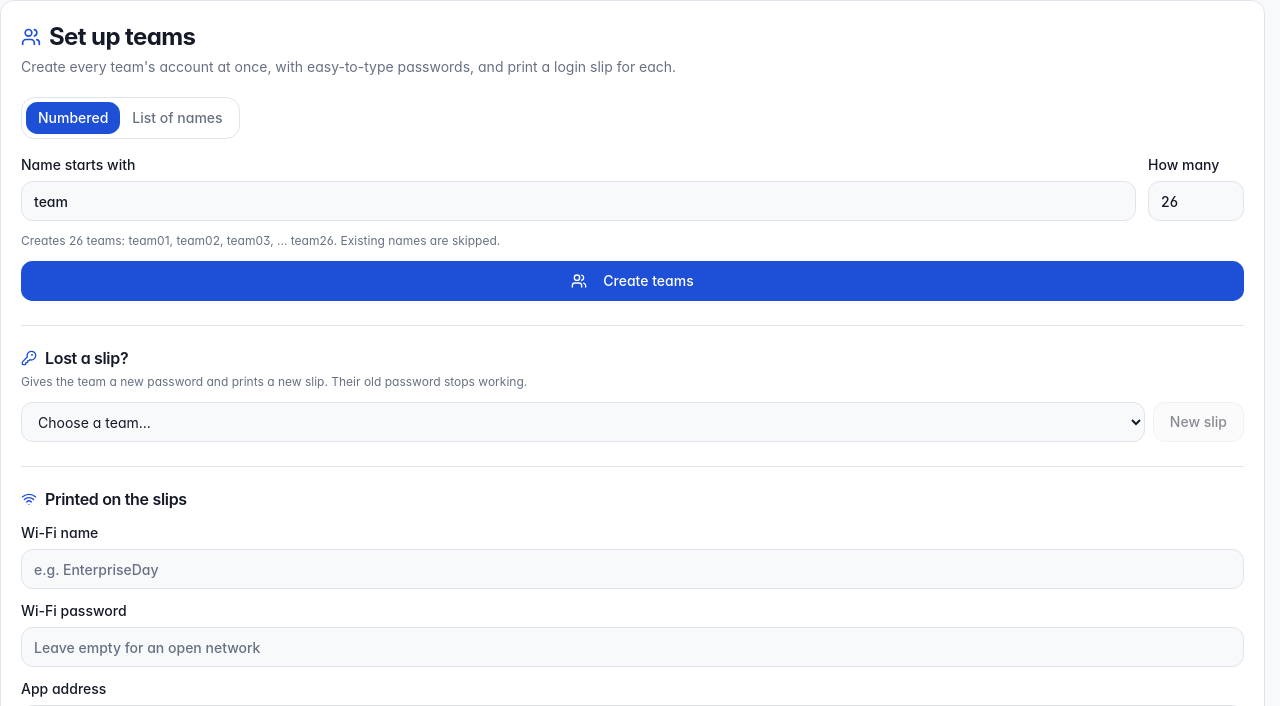
it: TeamSetupPanel › previews the numbered team names before creating them
The image size is (1280, 706).
Replace the text in the number field labelled "How many" with "52" at [1196, 201], box [1148,181,1244,221]
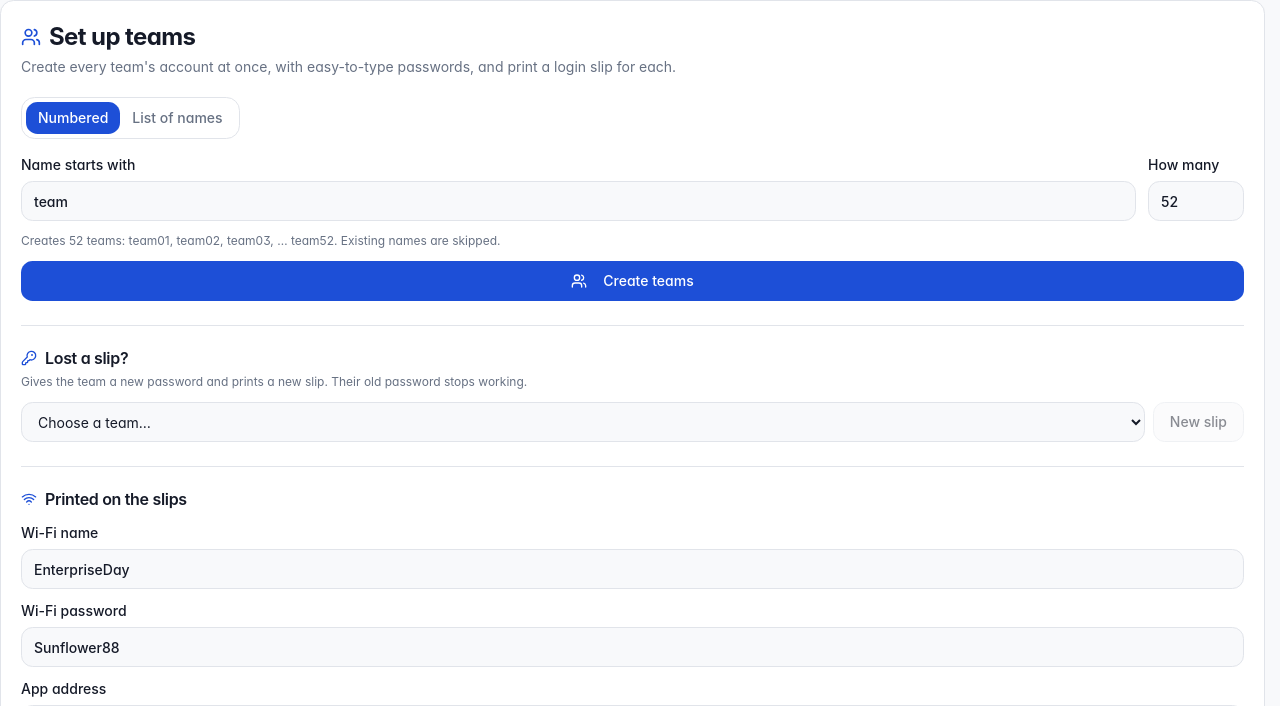
Expected: the text "Creates 52 teams: team01, team02, team03, … team52" is shown, [21,233,500,248]
